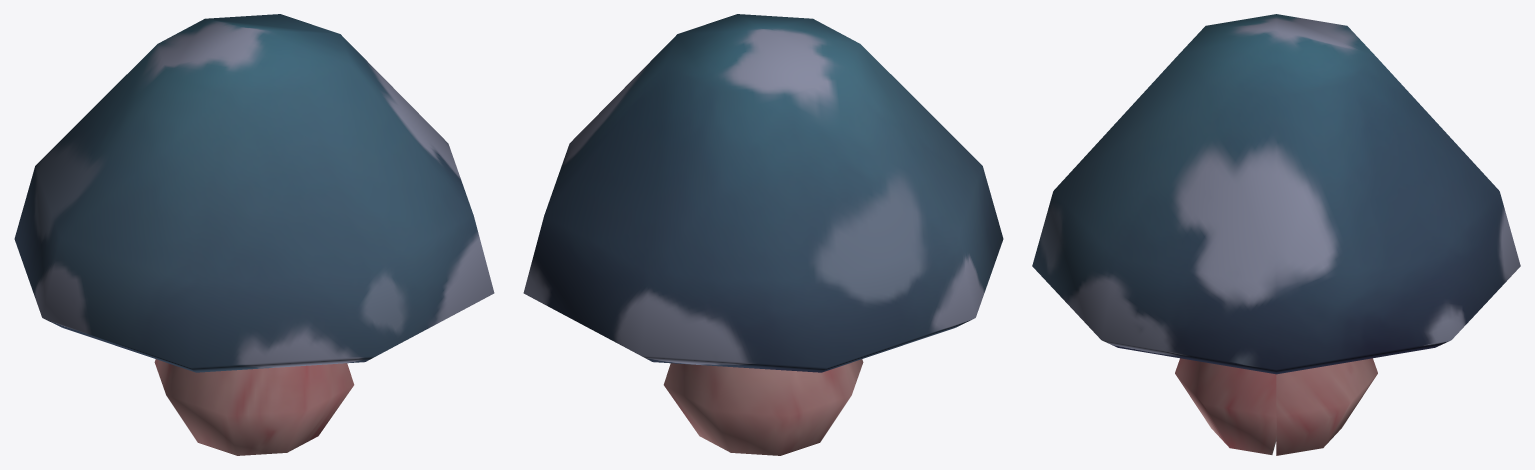
The model's file is PROP_MiniShroom_2.fbx.
3 renders of one model, left to right at view 1: azimuth 30°, elevation 25°; view 2: azimuth 150°, elevation 25°; view 3: azimuth 270°, elevation 25°, orthographic.
Visible parts, largest first — view 1: PROP_MiniShroom_2; view 2: PROP_MiniShroom_2; view 3: PROP_MiniShroom_2.
Part boxes in pixels (x1,y1,x2,y2): PROP_MiniShroom_2: [14, 14, 494, 455]; PROP_MiniShroom_2: [523, 14, 1003, 455]; PROP_MiniShroom_2: [1032, 14, 1520, 455].
Bounding box in the file's own units: 56.73 × 50.91 × 56.73.
Materials: 1 (1 with a texture image).
